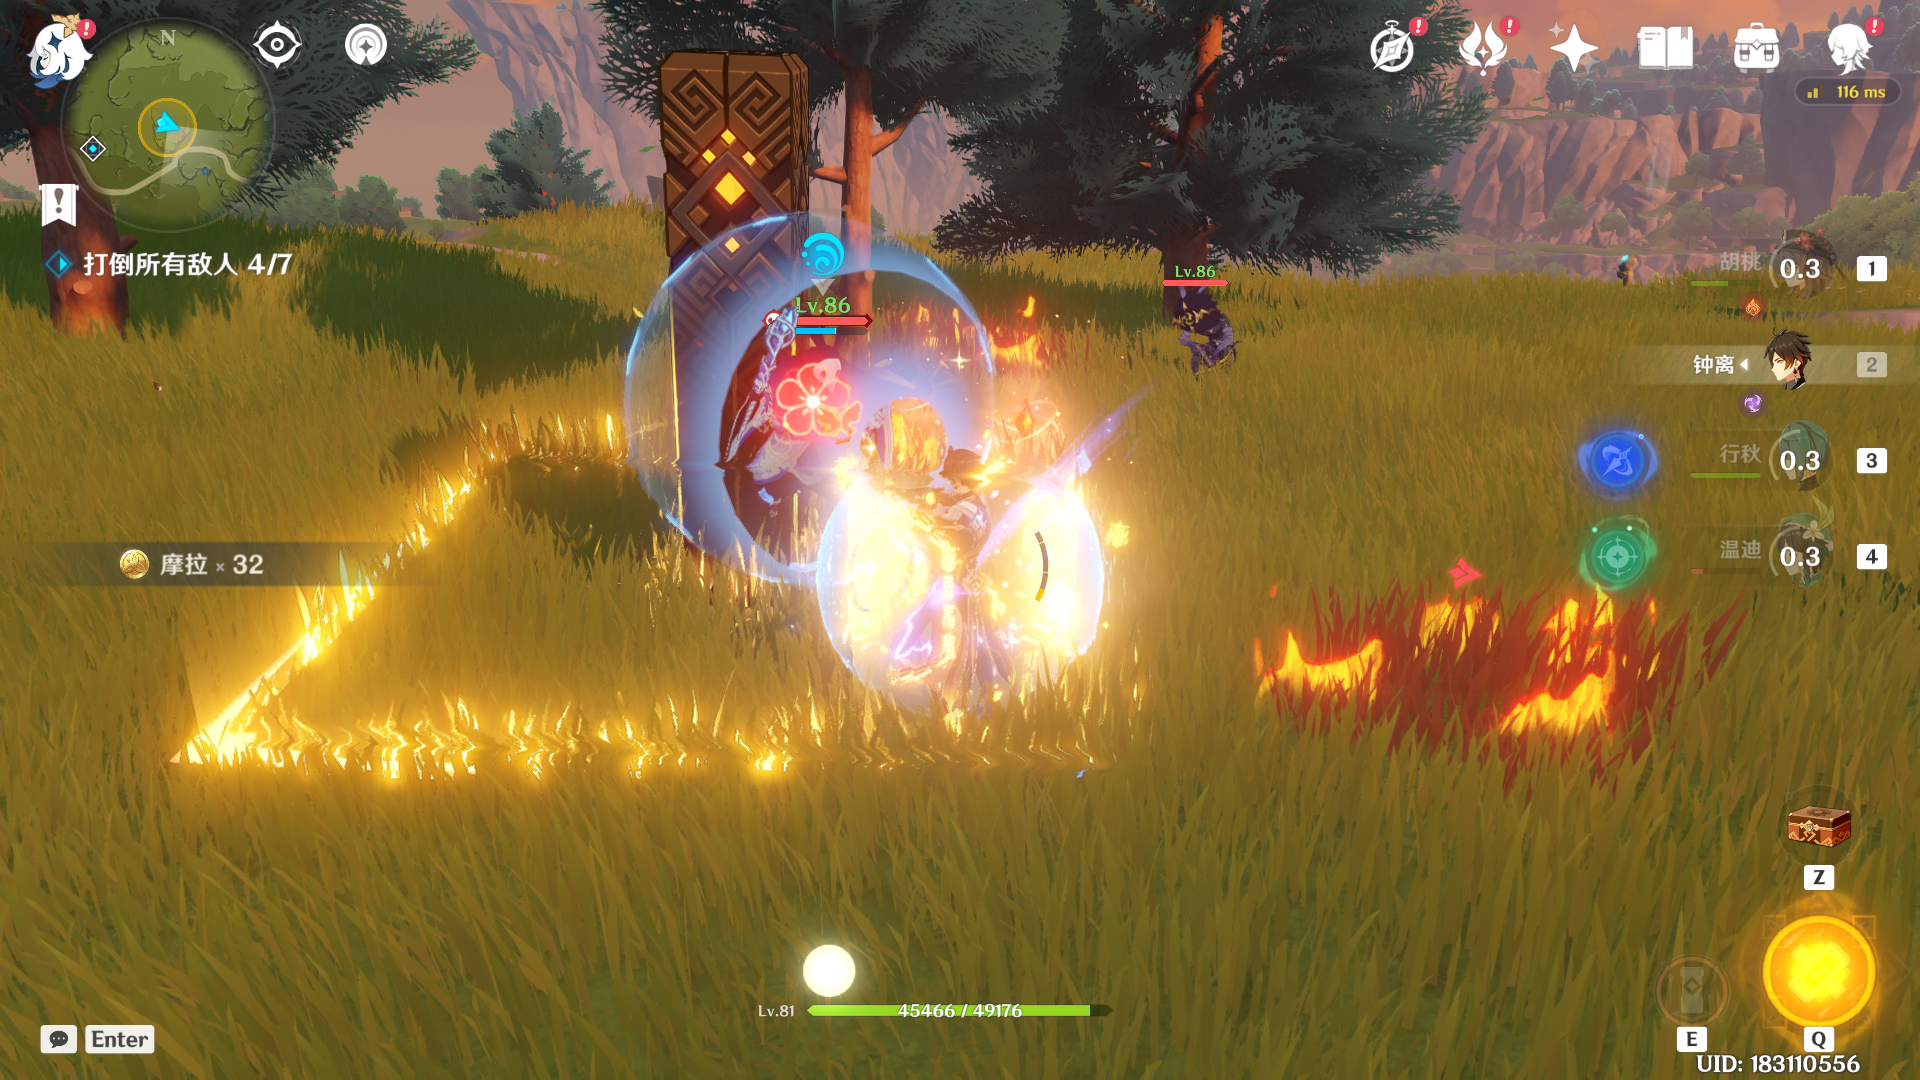caster: (695, 301, 951, 535)
hili: (1134, 266, 1265, 396)
